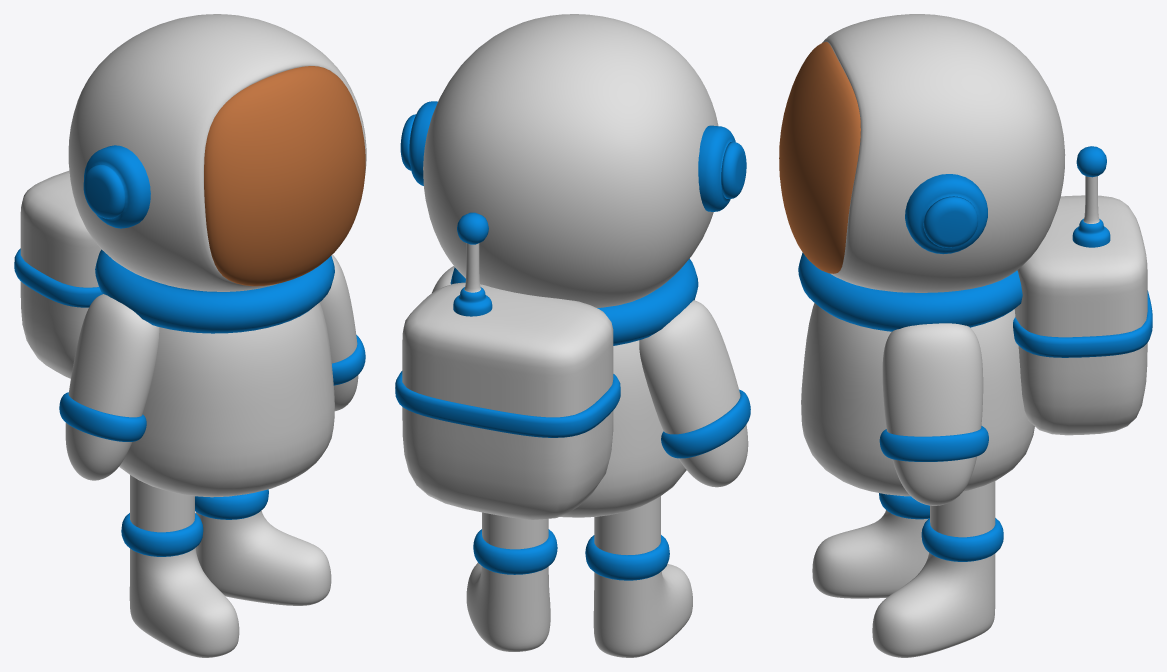
Rendered from uploads_files_2115689_spaceman.fbx.
The picture shows the model from 3 angles, left to right: view 1: azimuth 30°, elevation 25°; view 2: azimuth 150°, elevation 25°; view 3: azimuth 270°, elevation 25°; orthographic projection. The views are drawn at different scales.
Visible parts, largest first — view 1: Cube.001, Torus.001, Cube.017, Cube.009, Cube.025, Cube.027, Cube.019; view 2: Cube.001, Cube.025, Cube.009, Torus.001, Cube.017, Cube.027; view 3: Cube.001, Cube.025, Torus.001, Cube.019, Cube.027, Cube.017.
Boxes of the visible parts, box(x1,y1,x2,y2) form: Cube.001: box(68, 14, 366, 291); Torus.001: box(95, 249, 334, 497); Cube.017: box(121, 475, 239, 657); Cube.009: box(59, 294, 159, 480); Cube.025: box(14, 171, 102, 378); Cube.027: box(195, 489, 331, 605); Cube.019: box(319, 254, 365, 411); Cube.001: box(400, 14, 746, 307); Cube.025: box(395, 212, 620, 519); Cube.009: box(639, 300, 750, 487); Torus.001: box(450, 258, 698, 517); Cube.017: box(585, 496, 692, 657); Cube.027: box(466, 512, 557, 651); Cube.001: box(779, 14, 1065, 292); Cube.025: box(1013, 146, 1152, 435); Torus.001: box(798, 252, 1034, 496); Cube.019: box(879, 323, 988, 505); Cube.027: box(872, 481, 1003, 657); Cube.017: box(812, 493, 929, 598).
Bounding box in the file's own units: 67.85 × 125 × 72.4.
